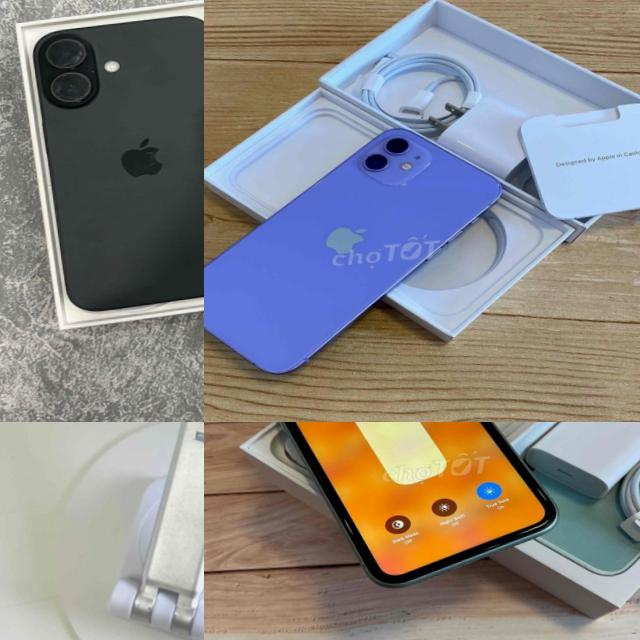gen_11: (249, 422, 568, 598)
gen_12_13: (204, 116, 523, 392)
gen_16: (24, 14, 204, 311)
